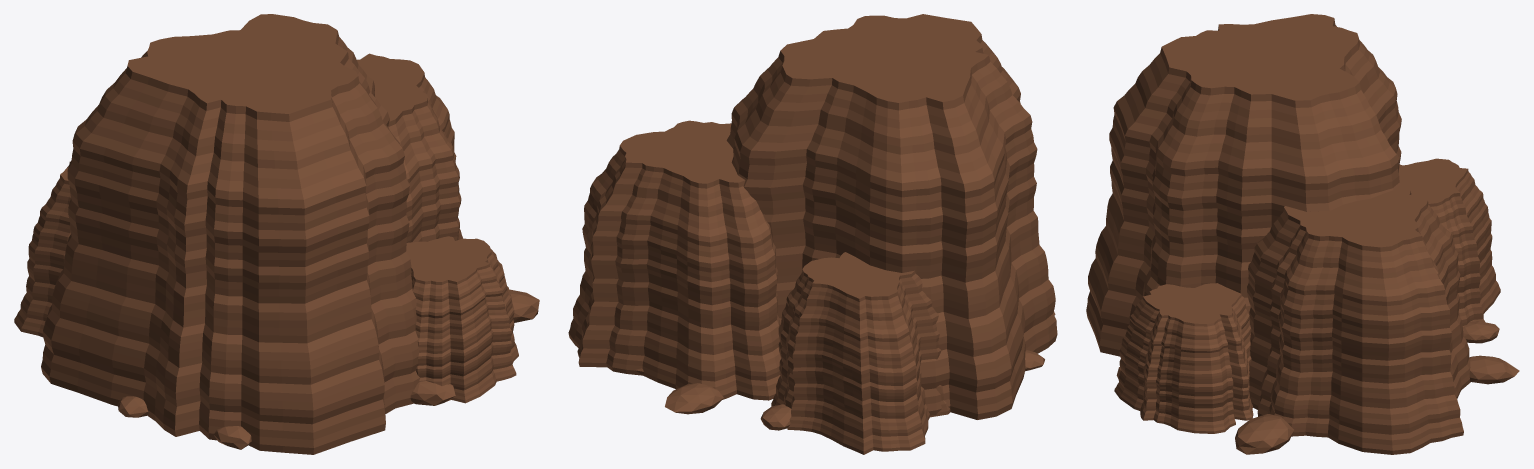
The model's file is outcrop-r02.glb.
The picture shows the model from 3 angles, left to right: view 1: azimuth 30°, elevation 25°; view 2: azimuth 150°, elevation 25°; view 3: azimuth 270°, elevation 25°; orthographic projection. The views are drawn at different scales.
Visible parts, largest first — view 1: H01 batch 00 / Ares S02 / fractured basalt; view 2: H01 batch 00 / Ares S02 / fractured basalt; view 3: H01 batch 00 / Ares S02 / fractured basalt.
Boxes of the visible parts, x1,y1,x2,y2 form: H01 batch 00 / Ares S02 / fractured basalt: (14,14,539,454); H01 batch 00 / Ares S02 / fractured basalt: (568,14,1057,454); H01 batch 00 / Ares S02 / fractured basalt: (1086,14,1519,454).
Bounding box in the file's own units: 1.62 × 1.08 × 1.53.
